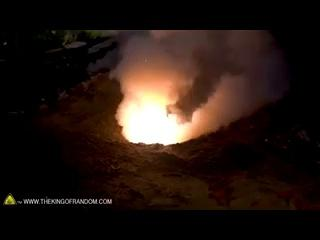Fire: (118, 78, 188, 142)
